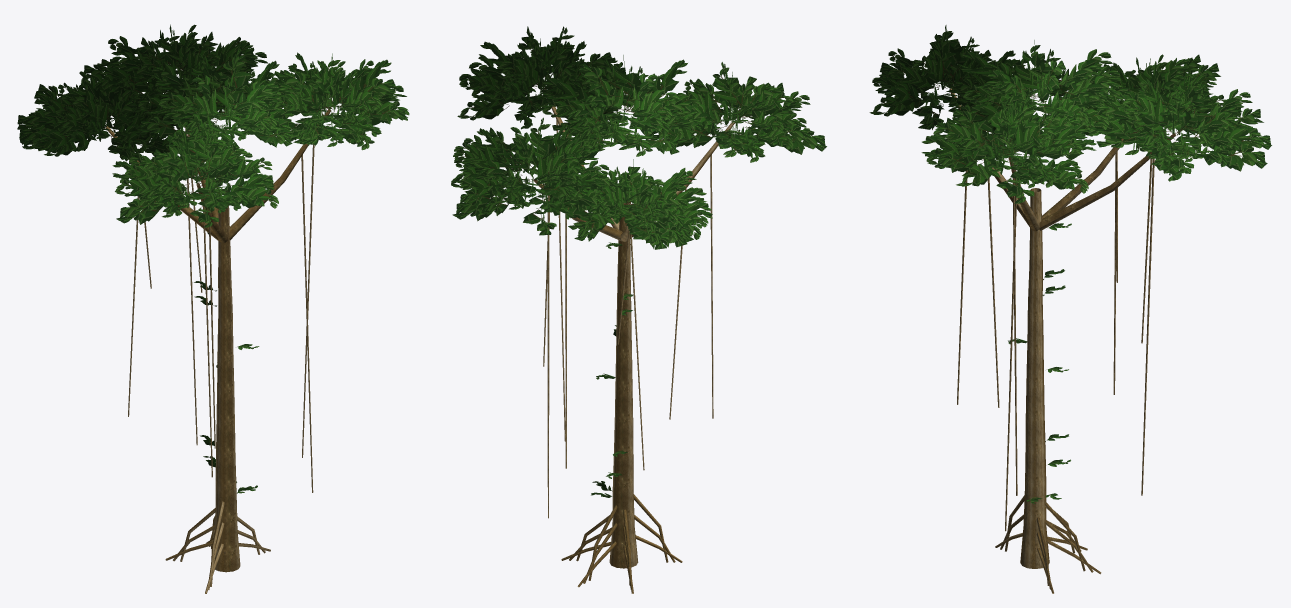
Rendered from SM_Jungle_02.gltf.
The picture shows the model from 3 angles, left to right: view 1: azimuth 30°, elevation 25°; view 2: azimuth 150°, elevation 25°; view 3: azimuth 270°, elevation 25°; orthographic projection. The views are drawn at different scales.
Parts seen in each view (by area): view 1: SM_Jungle_02; view 2: SM_Jungle_02; view 3: SM_Jungle_02.
Boxes of the visible parts, x1=… form: SM_Jungle_02: x1=17, y1=24, x2=409, y2=593; SM_Jungle_02: x1=451, y1=26, x2=826, y2=593; SM_Jungle_02: x1=869, y1=25, x2=1271, y2=593.
Bounding box in the file's own units: 13.45 × 20.13 × 14.34.
Materials: 2 (2 with a texture image).
